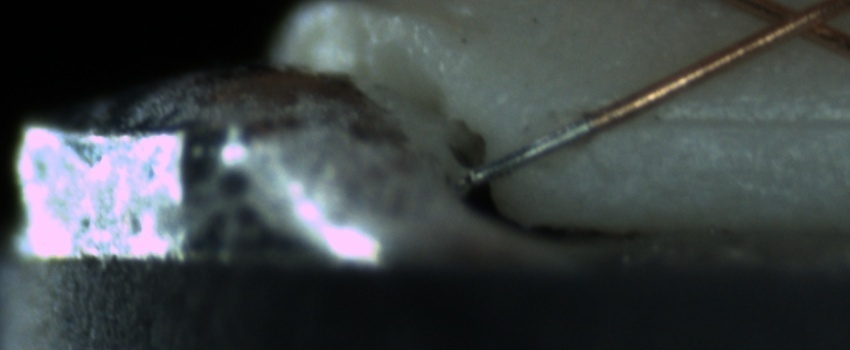CL: (745, 0, 838, 49)
DL: (620, 84, 846, 155)
TS: (463, 115, 591, 184)
